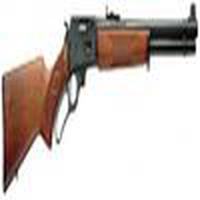gun: (1, 16, 200, 182)
